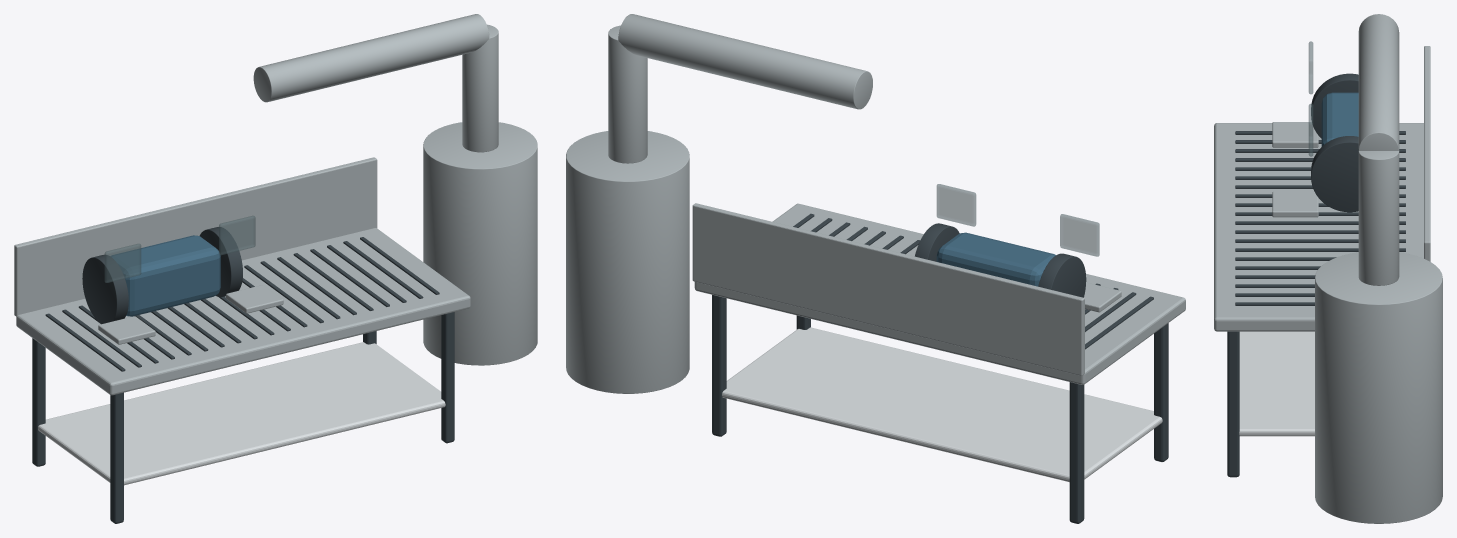
Rendered from grinding.glb.
3 renders of one model, left to right at view 1: azimuth 30°, elevation 25°; view 2: azimuth 150°, elevation 25°; view 3: azimuth 270°, elevation 25°, orthographic. The views are drawn at different scales.
Parts seen in each view (by area): view 1: GRIND | downdraft bench shelf, GRIND | downdraft bench top, GRIND | dust drum, GRIND | rear splash shield, GRIND | duct elbow, GRIND | grinder motor, GRIND | duct, GRIND | grinding wheel, GRIND | downdraft bench leg, GRIND | downdraft bench leg.002, GRIND | downdraft bench leg.001, GRIND | grinding wheel.001 (+4 smaller); view 2: GRIND | downdraft bench shelf, GRIND | rear splash shield, GRIND | dust drum, GRIND | downdraft bench top, GRIND | duct elbow, GRIND | duct, GRIND | grinder motor, GRIND | downdraft bench leg.001, GRIND | downdraft bench leg.003, GRIND | downdraft bench leg, GRIND | grinding wheel, GRIND | eye shield.001 (+3 smaller); view 3: GRIND | dust drum, GRIND | downdraft bench top, GRIND | downdraft bench shelf, GRIND | duct, GRIND | duct elbow, GRIND | grinding wheel.001, GRIND | downdraft bench leg.002, GRIND | grinder motor, GRIND | rear splash shield, GRIND | wheel work rest.001, GRIND | wheel work rest, GRIND | grinding wheel (+18 smaller).
Part boxes in pixels (x1,y1,x2,y2): GRIND | downdraft bench shelf: (38,342,445,485); GRIND | downdraft bench top: (16,228,470,395); GRIND | dust drum: (423,122,537,365); GRIND | rear splash shield: (14,157,377,316); GRIND | duct elbow: (253,14,489,102); GRIND | grinder motor: (110,235,220,316); GRIND | duct: (462,24,498,152); GRIND | grinding wheel: (82,254,128,323); GRIND | downdraft bench leg: (110,392,123,523); GRIND | downdraft bench leg.002: (441,312,454,443); GRIND | downdraft bench leg.001: (32,338,45,466); GRIND | grinding wheel.001: (199,227,242,297); GRIND | downdraft bench shelf: (722,327,1162,482); GRIND | rear splash shield: (692,203,1084,375); GRIND | dust drum: (566,131,689,393); GRIND | downdraft bench top: (694,203,1185,384); GRIND | duct elbow: (618,14,872,109); GRIND | duct: (608,25,647,163); GRIND | grinder motor: (936,232,1055,286); GRIND | downdraft bench leg.001: (1069,382,1084,523); GRIND | downdraft bench leg.003: (712,295,726,436); GRIND | downdraft bench leg: (1154,323,1168,461); GRIND | grinding wheel: (1038,253,1086,297); GRIND | eye shield.001: (936,184,976,226); GRIND | dust drum: (1315,252,1442,523); GRIND | downdraft bench top: (1214,123,1423,331); GRIND | downdraft bench shelf: (1239,331,1314,436); GRIND | duct: (1358,151,1399,285); GRIND | duct elbow: (1358,14,1399,150); GRIND | grinding wheel.001: (1311,136,1358,212); GRIND | downdraft bench leg.002: (1227,331,1239,477); GRIND | grinder motor: (1321,92,1358,146); GRIND | rear splash shield: (1424,46,1430,261); GRIND | wheel work rest.001: (1272,191,1318,217); GRIND | wheel work rest: (1272,122,1318,147); GRIND | grinding wheel: (1311,73,1358,138).
Size of the model in its own units: 3.28 by 2.26 by 1.18.
